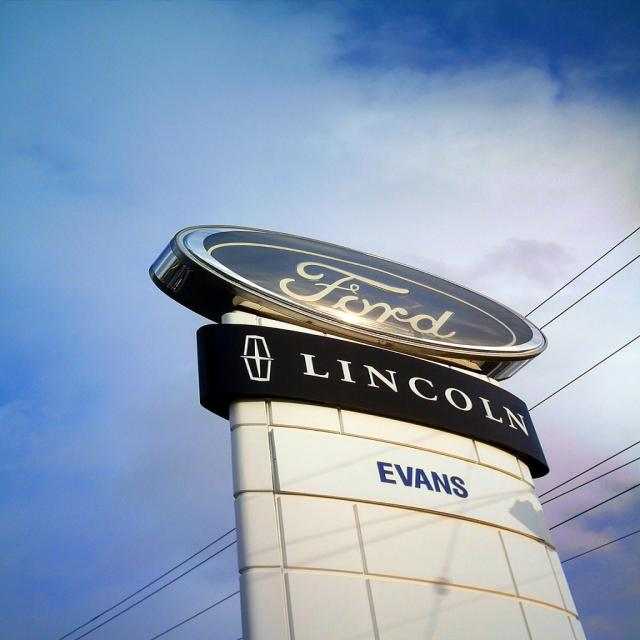ford: (176, 223, 550, 359)
